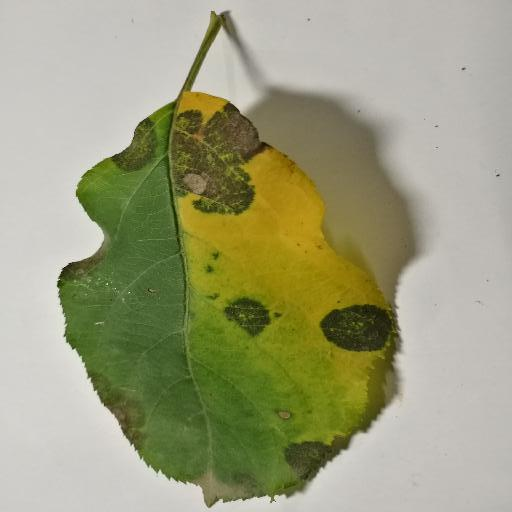Brown_Spot: (169, 101, 270, 212), (86, 379, 141, 461), (320, 301, 390, 353), (270, 433, 330, 484), (228, 293, 270, 340), (48, 250, 106, 283), (110, 126, 156, 167)
